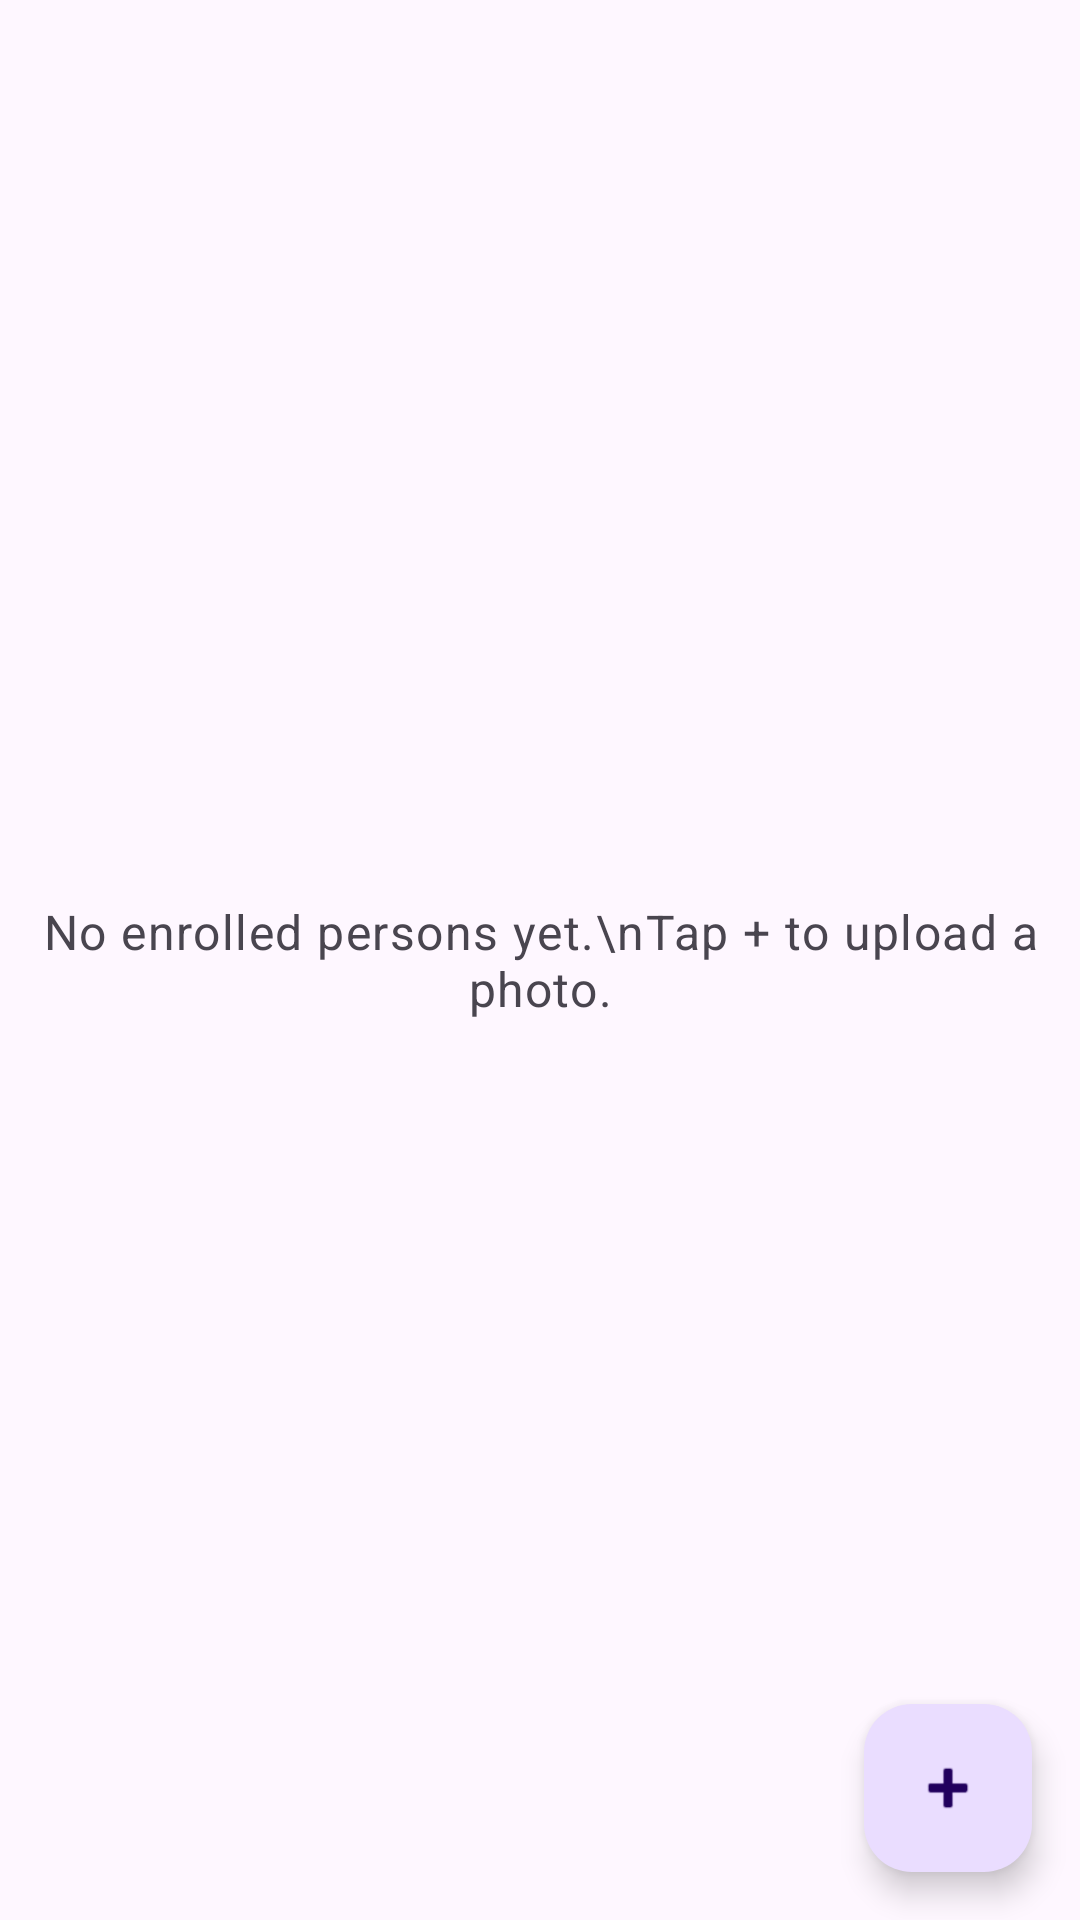

Icons on this 1080 x 1920 Android screen, each with the point to tap as (x=x, y=y):
Add person: (x=948, y=1788)
